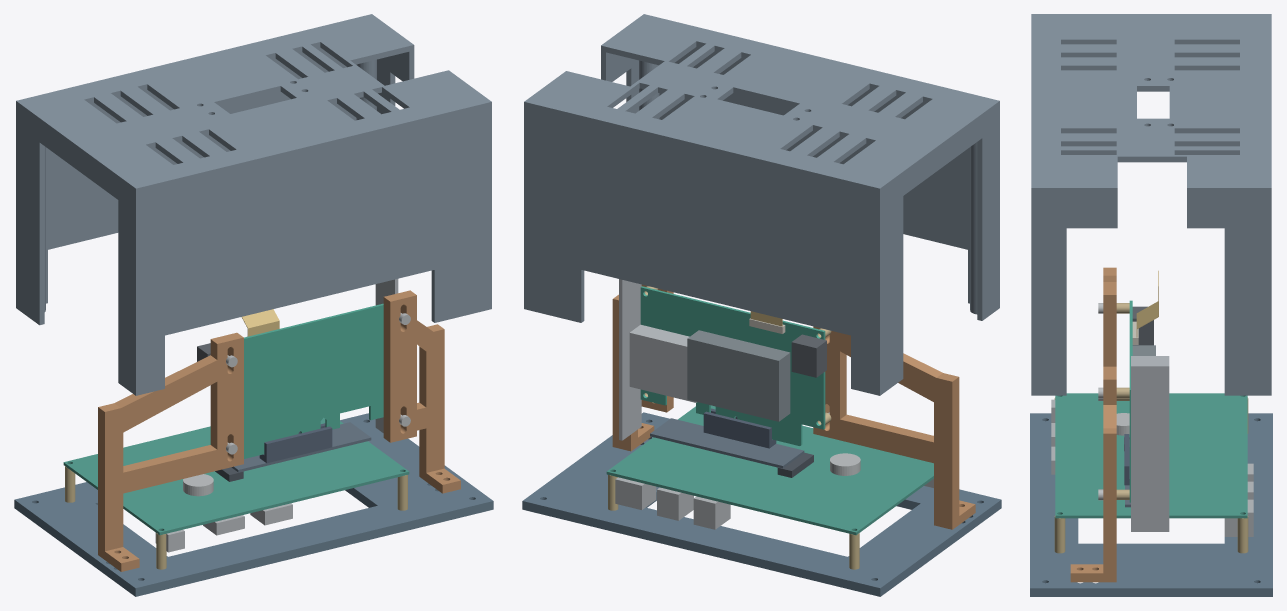
The model's file is 05_assembly.glb.
3 views of the same model, side by side, from view 1: azimuth 30°, elevation 25°; view 2: azimuth 150°, elevation 25°; view 3: azimuth 270°, elevation 25° (orthographic).
Visible parts, largest first — view 1: Cover (lifted), 01_base, PFAC100 PCB, 02_fpga_power_end_brace, RK03 PCB, 03_fpga_sfp_end_brace, PH47 PCIe slot, RK ports, PH47 adapter PCB, RK standoffs, Camera FFC route; view 2: Cover (lifted), 01_base, RK03 PCB, 02_fpga_power_end_brace, PFAC100 PCB, FPGA heatsink, FPGA SFP cages, RK ports, PH47 adapter PCB, FPGA I-O bracket, 03_fpga_sfp_end_brace, PH47 PCIe slot (+3 smaller); view 3: Cover (lifted), 01_base, RK03 PCB, FPGA I-O bracket, 03_fpga_sfp_end_brace, 02_fpga_power_end_brace, RK ports, RK standoffs, PFAC100 PCB, FPGA rear standoffs, FPGA 12V connector, Camera FFC route.
Boxes of the visible parts, x1=… form: Cover (lifted): x1=16, y1=14, x2=491, y2=395; 01_base: x1=14, y1=413, x2=493, y2=596; PFAC100 PCB: x1=244, y1=303, x2=383, y2=458; 02_fpga_power_end_brace: x1=98, y1=332, x2=243, y2=571; RK03 PCB: x1=63, y1=417, x2=409, y2=535; 03_fpga_sfp_end_brace: x1=383, y1=290, x2=460, y2=493; PH47 PCIe slot: x1=259, y1=423, x2=332, y2=463; RK ports: x1=155, y1=503, x2=292, y2=552; PH47 adapter PCB: x1=231, y1=422, x2=371, y2=472; RK standoffs: x1=65, y1=466, x2=407, y2=569; Camera FFC route: x1=241, y1=309, x2=279, y2=336; Cover (lifted): x1=524, y1=14, x2=999, y2=395; 01_base: x1=522, y1=412, x2=1001, y2=596; RK03 PCB: x1=606, y1=405, x2=933, y2=535; 02_fpga_power_end_brace: x1=813, y1=326, x2=975, y2=529; PFAC100 PCB: x1=640, y1=286, x2=825, y2=445; FPGA heatsink: x1=687, y1=330, x2=790, y2=421; FPGA SFP cages: x1=629, y1=324, x2=696, y2=402; RK ports: x1=615, y1=477, x2=933, y2=529; PH47 adapter PCB: x1=650, y1=418, x2=804, y2=468; FPGA I-O bracket: x1=619, y1=279, x2=641, y2=440; 03_fpga_sfp_end_brace: x1=612, y1=284, x2=673, y2=451; PH47 PCIe slot: x1=703, y1=408, x2=776, y2=448; Cover (lifted): x1=1031, y1=14, x2=1271, y2=395; 01_base: x1=1030, y1=413, x2=1272, y2=596; RK03 PCB: x1=1055, y1=393, x2=1247, y2=518; FPGA I-O bracket: x1=1131, y1=356, x2=1169, y2=531; 03_fpga_sfp_end_brace: x1=1070, y1=366, x2=1116, y2=582; 02_fpga_power_end_brace: x1=1103, y1=267, x2=1116, y2=366; RK ports: x1=1051, y1=399, x2=1253, y2=536; RK standoffs: x1=1054, y1=397, x2=1248, y2=553; PFAC100 PCB: x1=1129, y1=300, x2=1132, y2=502; FPGA rear standoffs: x1=1116, y1=303, x2=1129, y2=499; FPGA 12V connector: x1=1132, y1=306, x2=1153, y2=345; Camera FFC route: x1=1136, y1=270, x2=1158, y2=337.
Size of the model in its own units: 0.215 by 0.234 by 0.126.
